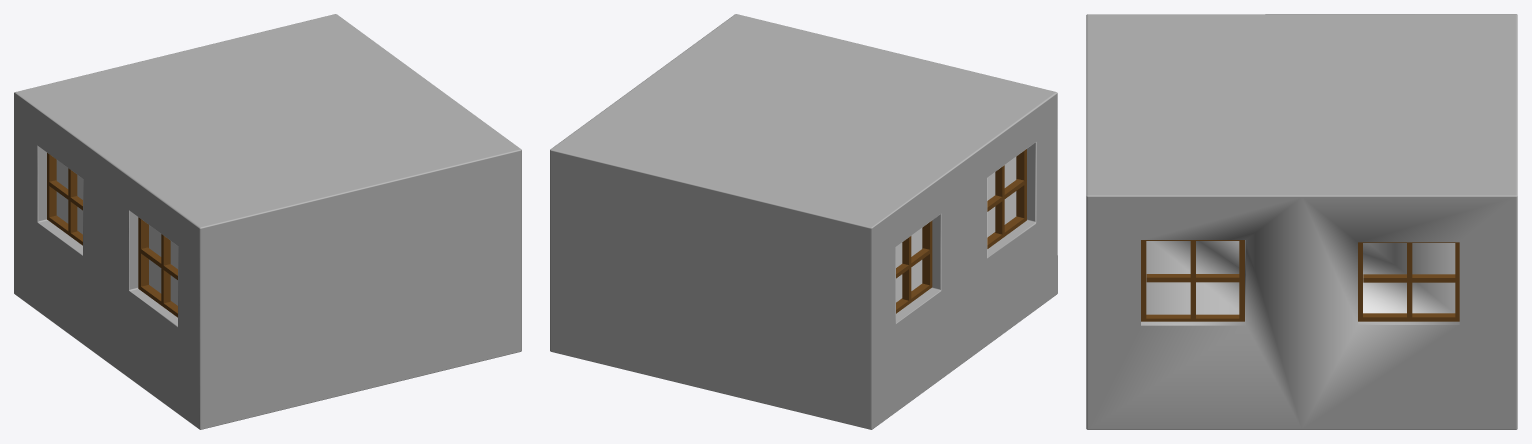
File: F_Door_4.fbx
3 renders of one model, left to right at view 1: azimuth 30°, elevation 25°; view 2: azimuth 150°, elevation 25°; view 3: azimuth 270°, elevation 25°, orthographic. The views are drawn at different scales.
Visible parts, largest first — view 1: Wall.005, Window_1.004, Window_2.005; view 2: Wall.005, Window_1.004, Window_2.005; view 3: Wall.005, Window_3, Window_4.
Part boxes in pixels (left/top/right/bottom): Wall.005: left=14, top=14, right=521, bottom=429; Window_1.004: left=138, top=217, right=177, bottom=317; Window_2.005: left=47, top=153, right=82, bottom=245; Wall.005: left=550, top=14, right=1057, bottom=429; Window_1.004: left=987, top=149, right=1026, bottom=248; Window_2.005: left=896, top=220, right=932, bottom=313; Wall.005: left=1086, top=14, right=1517, bottom=429; Window_3: left=1141, top=240, right=1244, bottom=321; Window_4: left=1358, top=242, right=1459, bottom=321.
Bounding box in the file's own units: 500 × 300 × 500.
